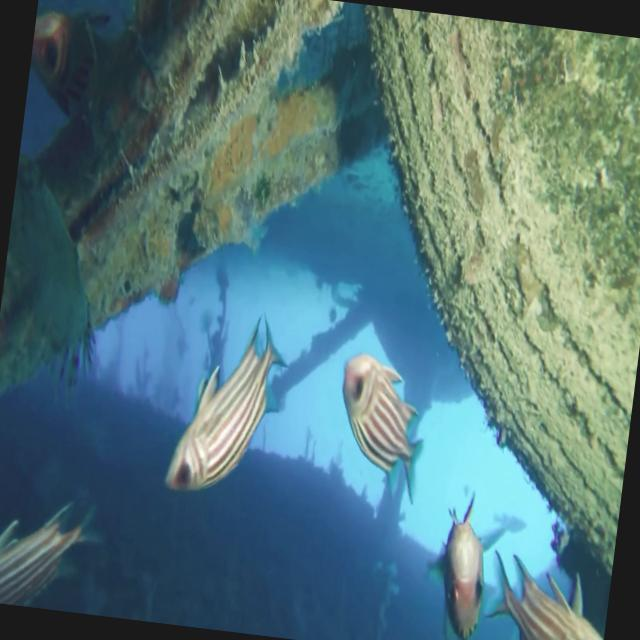Asker Baligi: (162, 302, 294, 505), (327, 348, 434, 506)
